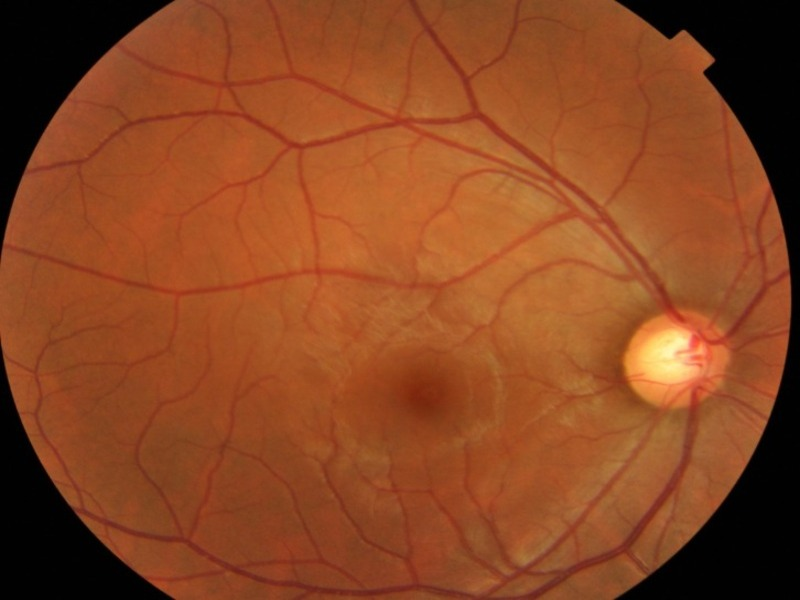Optic Cup: (642, 332, 689, 381)
Optic Disc: (623, 310, 729, 408)
